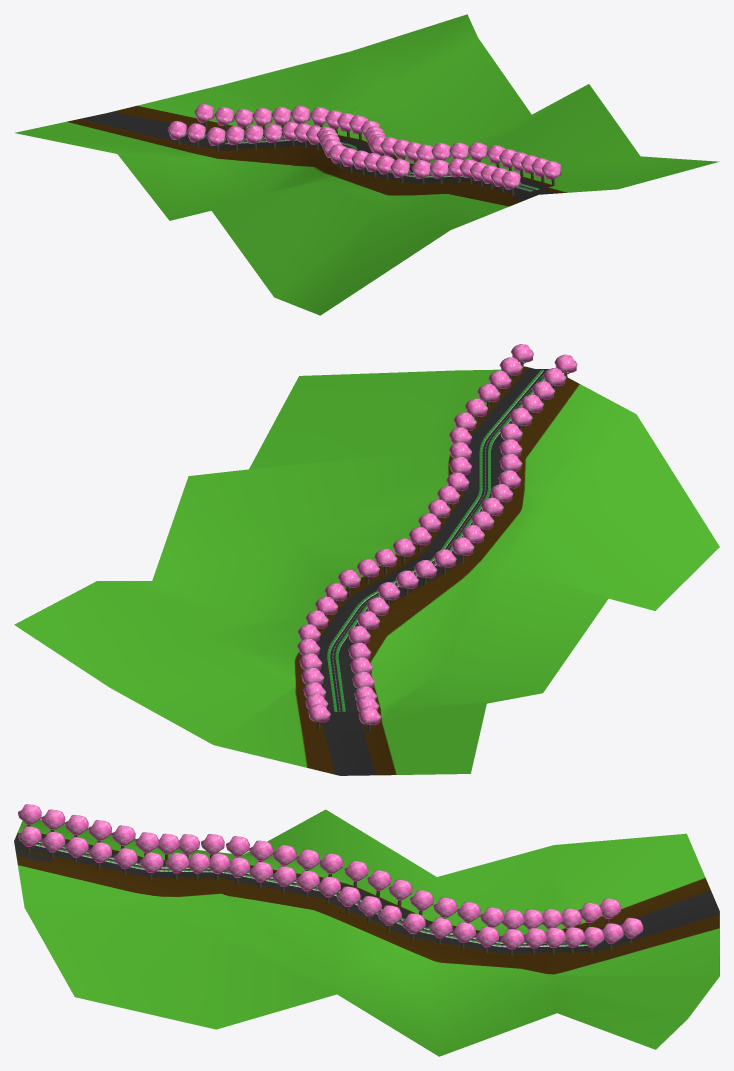
File: OBJ_Course_Spring.fbx
3 views of the same model, one above another, from view 1: azimuth 30°, elevation 25°; view 2: azimuth 150°, elevation 25°; view 3: azimuth 270°, elevation 25° (orthographic). The views are drawn at different scales.
Visible parts, largest first — view 1: OBJ_Course_easy1_0042:ambientLight3; view 2: OBJ_Course_easy1_0042:ambientLight3; view 3: OBJ_Course_easy1_0042:ambientLight3.
Part boxes in pixels (x1,y1,x2,y2): OBJ_Course_easy1_0042:ambientLight3: (15, 14, 719, 315); OBJ_Course_easy1_0042:ambientLight3: (14, 344, 719, 775); OBJ_Course_easy1_0042:ambientLight3: (14, 804, 719, 1056).
Size of the model in its own units: 485 by 152 by 602.
Materials: 5 (5 with a texture image).
